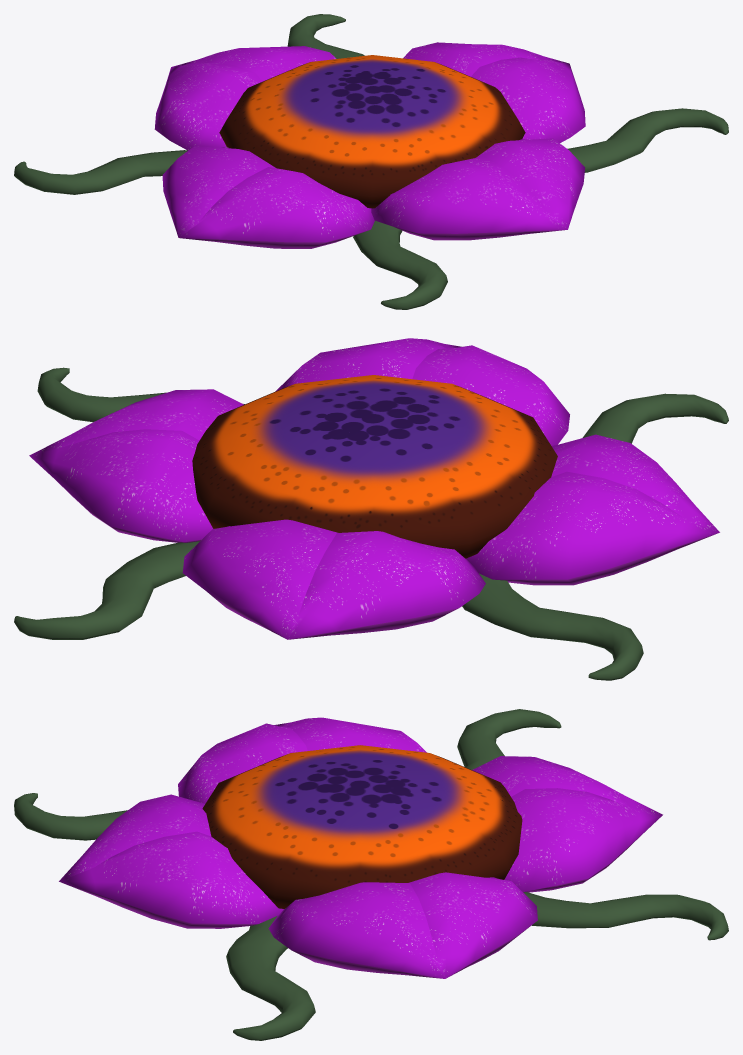
Rendered from BounceFlowerModel.fbx.
3 renders of one model, top to bottom at view 1: azimuth 30°, elevation 25°; view 2: azimuth 150°, elevation 25°; view 3: azimuth 270°, elevation 25°, orthographic. The views are drawn at different scales.
Parts seen in each view (by area): view 1: pSphere1, polySurface2, polySurface9, polySurface11, polySurface10, polySurface5, polySurface3, polySurface1, polySurface7; view 2: pSphere1, polySurface11, polySurface2, polySurface10, polySurface9, polySurface1, polySurface7, polySurface3, polySurface5; view 3: pSphere1, polySurface10, polySurface9, polySurface11, polySurface2, polySurface5, polySurface7, polySurface1, polySurface3.
Part boxes in pixels (x1,y1,x2,y2): pSphere1: (219, 55, 525, 208); polySurface2: (162, 146, 374, 248); polySurface9: (371, 138, 585, 240); polySurface11: (154, 46, 336, 150); polySurface10: (403, 42, 585, 142); polySurface5: (567, 108, 728, 172); polySurface3: (353, 220, 447, 309); polySurface1: (14, 150, 187, 194); polySurface7: (287, 14, 364, 58); pSphere1: (192, 375, 557, 558); polySurface11: (182, 519, 485, 639); polySurface2: (466, 434, 719, 585); polySurface10: (29, 389, 243, 542); polySurface9: (275, 338, 569, 445); polySurface1: (462, 573, 643, 680); polySurface7: (14, 541, 199, 639); polySurface3: (582, 393, 728, 443); polySurface5: (37, 367, 244, 422); pSphere1: (202, 745, 522, 908); polySurface10: (268, 872, 537, 978); polySurface9: (59, 794, 283, 928); polySurface11: (472, 756, 662, 892); polySurface2: (178, 717, 426, 803); polySurface5: (226, 916, 315, 1040); polySurface7: (523, 892, 728, 940); polySurface1: (457, 709, 561, 769); polySurface3: (14, 793, 127, 840).
Size of the model in its own units: 266 by 36.83 by 250.
